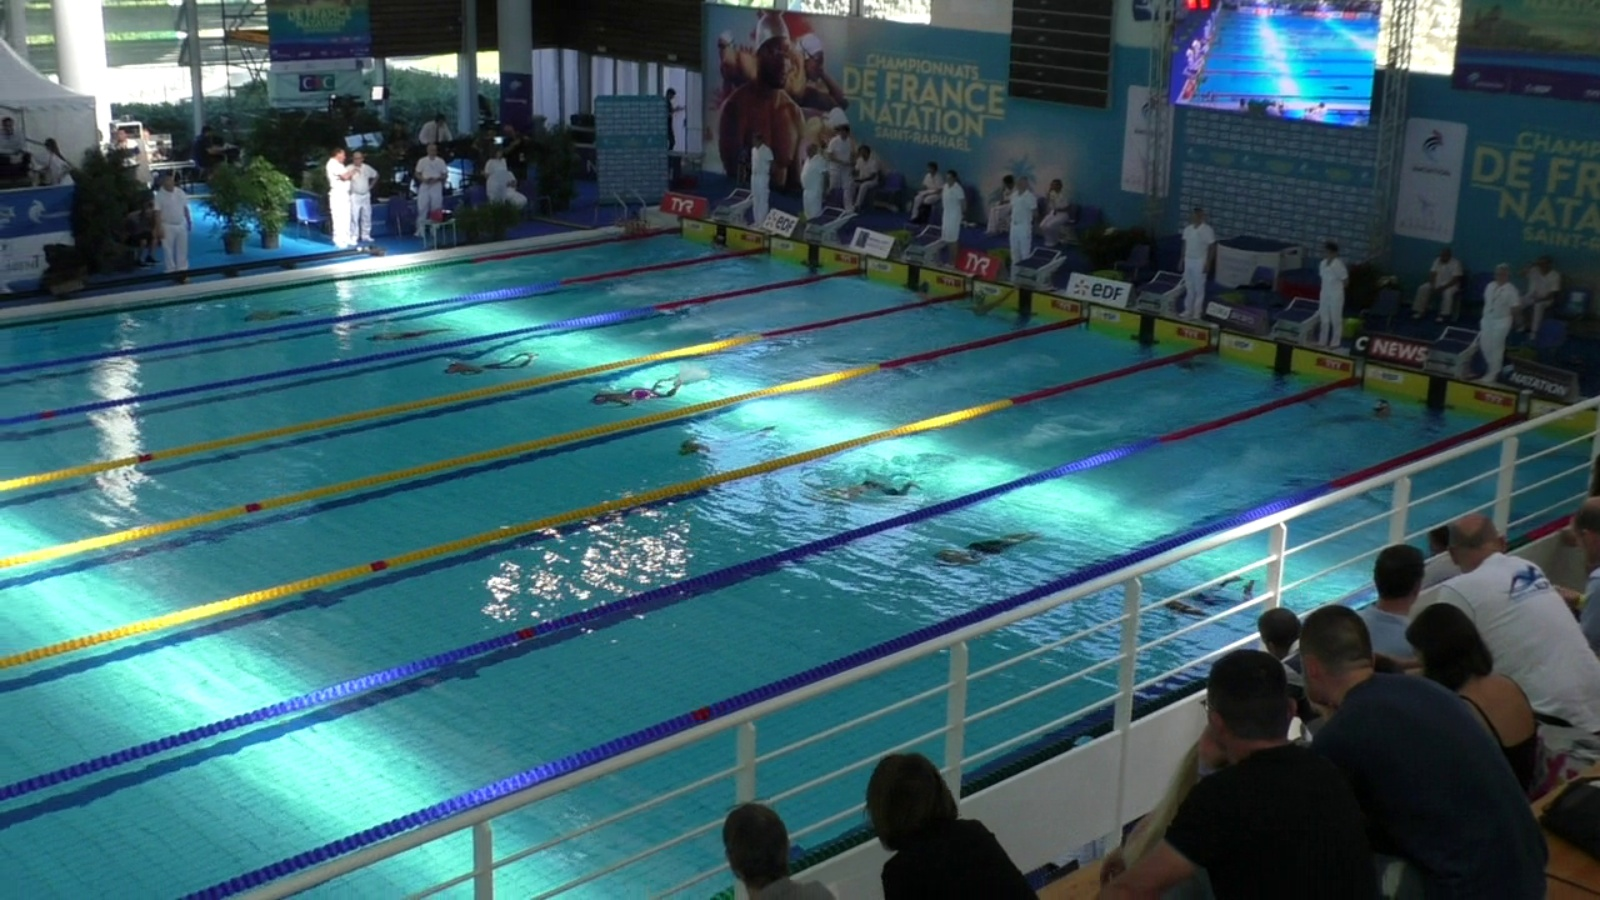swimmerw: (587, 377, 714, 416), (927, 532, 1041, 573), (677, 419, 784, 462), (1162, 575, 1262, 620), (819, 473, 922, 509), (438, 349, 534, 377), (366, 329, 455, 344), (234, 305, 305, 323)
